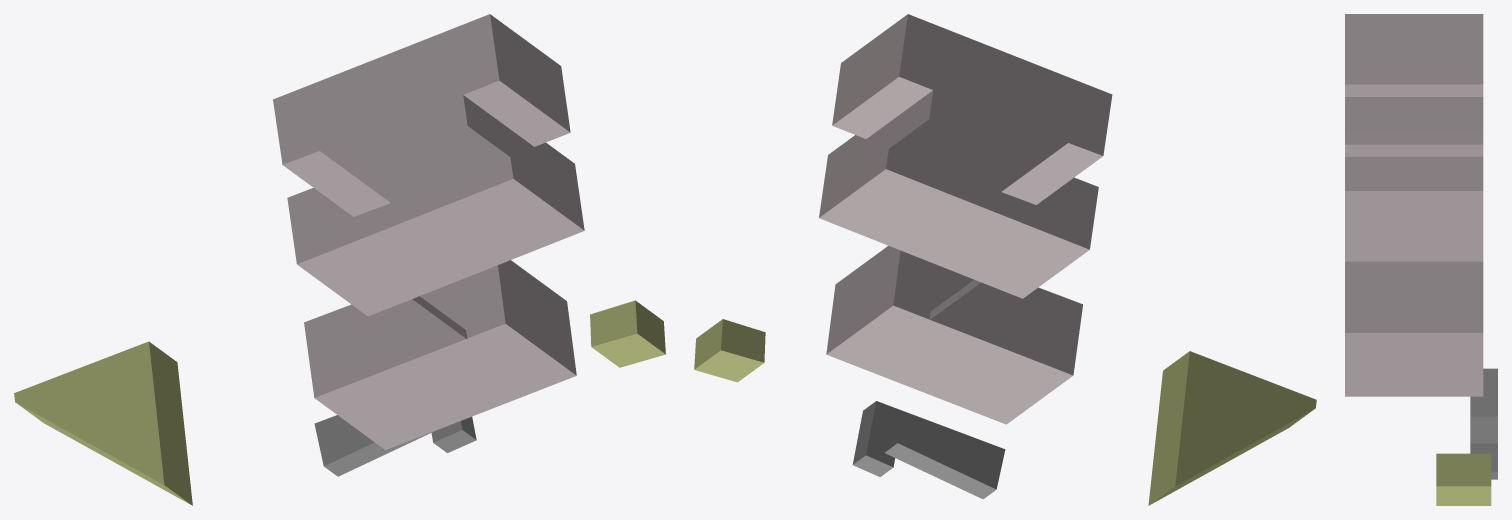
3 views of the same model, side by side, from view 1: azimuth 30°, elevation 25°; view 2: azimuth 150°, elevation 25°; view 3: azimuth 270°, elevation 25° (orthographic). The views are drawn at different scales.
Visible parts, largest first — view 1: 0_1_0_0_2_2_0_1; view 2: 0_1_0_0_2_2_0_1; view 3: 0_1_0_0_2_2_0_1.
Part boxes in pixels (x1,y1,x2,y2): 0_1_0_0_2_2_0_1: (14, 14, 665, 505); 0_1_0_0_2_2_0_1: (694, 14, 1316, 505); 0_1_0_0_2_2_0_1: (1345, 14, 1497, 505).
Size of the model in its own units: 76.39 by 49.09 by 16.6.
